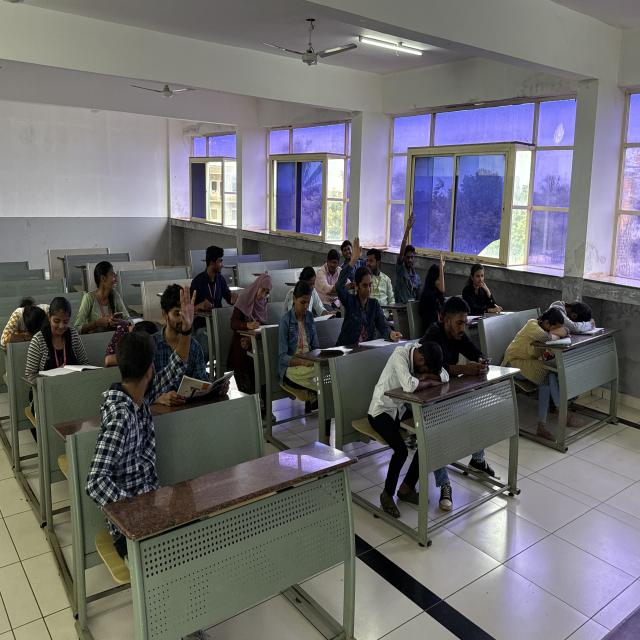Hand Rising: (112, 280, 198, 472), (340, 232, 382, 339), (396, 208, 425, 299), (425, 248, 453, 314)
Reading: (24, 295, 112, 379), (290, 263, 338, 324)
Sleeping: (368, 335, 451, 402), (504, 306, 572, 361), (0, 296, 58, 352), (549, 293, 609, 346)
Using Phone: (426, 294, 495, 377), (74, 260, 136, 332)
Writing: (230, 270, 276, 347)
